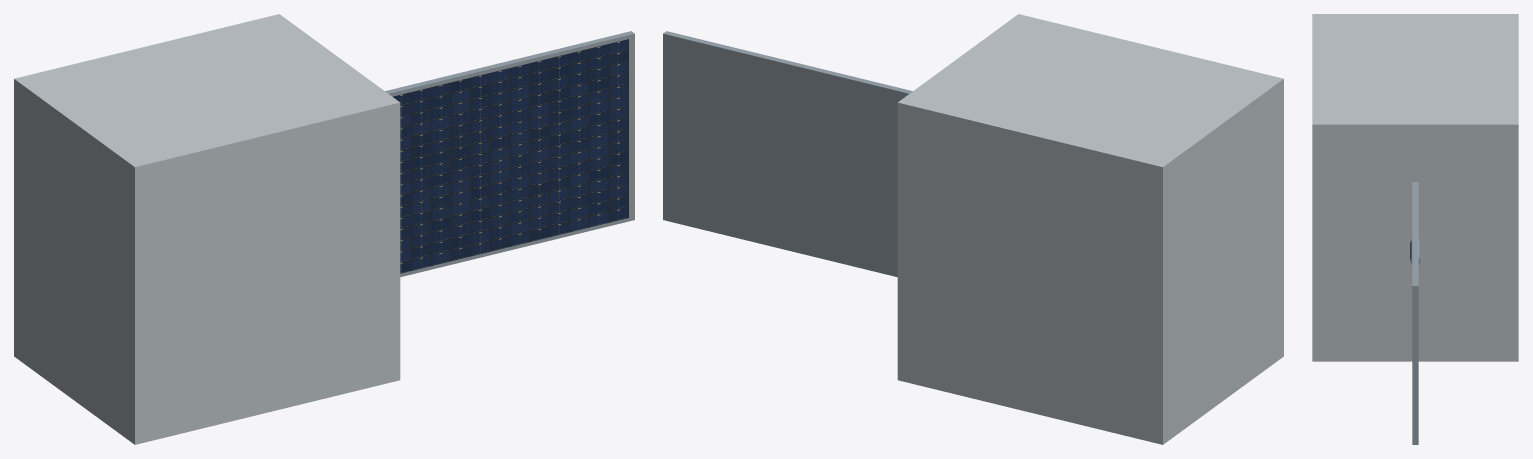
The model's file is ref-cast-100-38861.glb.
The picture shows the model from 3 angles, left to right: view 1: azimuth 30°, elevation 25°; view 2: azimuth 150°, elevation 25°; view 3: azimuth 270°, elevation 25°; orthographic projection. The views are drawn at different scales.
Parts seen in each view (by area): view 1: Spacecraft body, Photovoltaic laminates, Array frame; view 2: Spacecraft body, Array frame; view 3: Spacecraft body, Array frame.
Part boxes in pixels (x1,y1,x2,y2): Spacecraft body: (14, 14, 400, 444); Photovoltaic laminates: (393, 39, 628, 273); Array frame: (385, 31, 634, 277); Spacecraft body: (897, 14, 1283, 444); Array frame: (663, 31, 912, 277); Spacecraft body: (1312, 14, 1518, 361); Array frame: (1412, 182, 1418, 444).
Size of the model in its own units: 4 by 1.9 by 1.5.
Materials: 3 (1 with a texture image).
